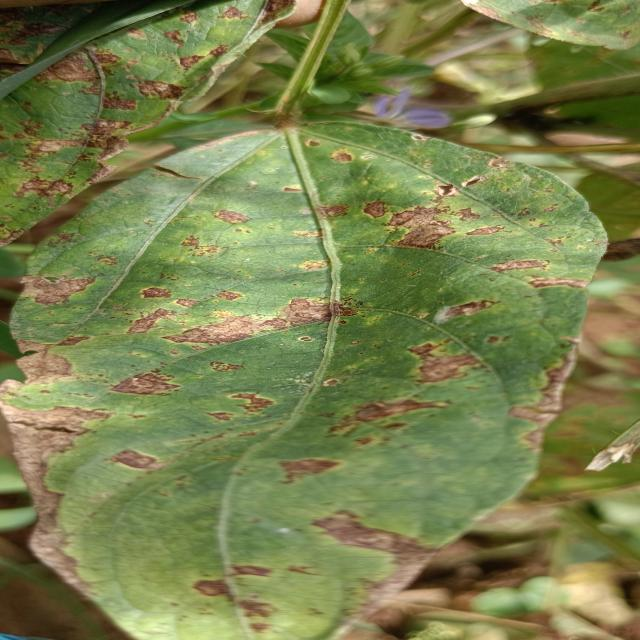Black gram_leaf spot: (0, 108, 621, 640), (0, 0, 306, 244)
